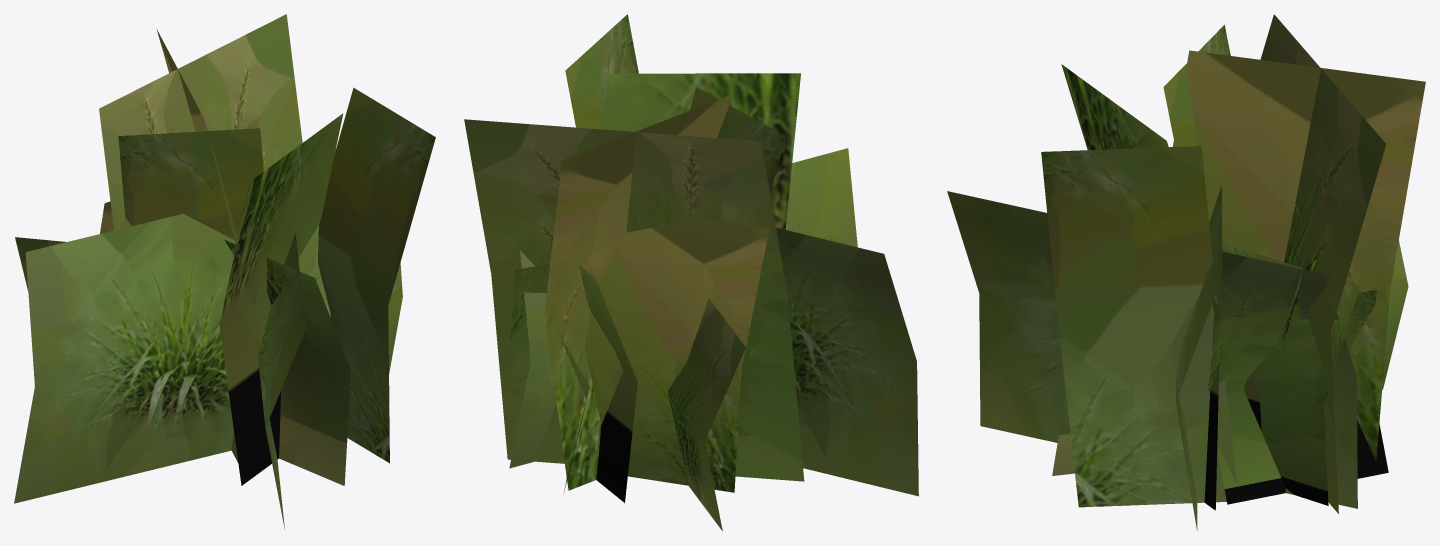
Rendered from grass_1.fbx.
3 renders of one model, left to right at view 1: azimuth 30°, elevation 25°; view 2: azimuth 150°, elevation 25°; view 3: azimuth 270°, elevation 25°, orthographic. The views are drawn at different scales.
Visible parts, largest first — view 1: grass_1; view 2: grass_1; view 3: grass_1.
Boxes of the visible parts, <box> form: grass_1: <box>14,14,435,529</box>; grass_1: <box>464,14,918,531</box>; grass_1: <box>947,14,1425,530</box>.
Size of what is drawn, in the model's own units: 1.05 by 0.8735 by 0.9911.
1 material, 1 textured.
